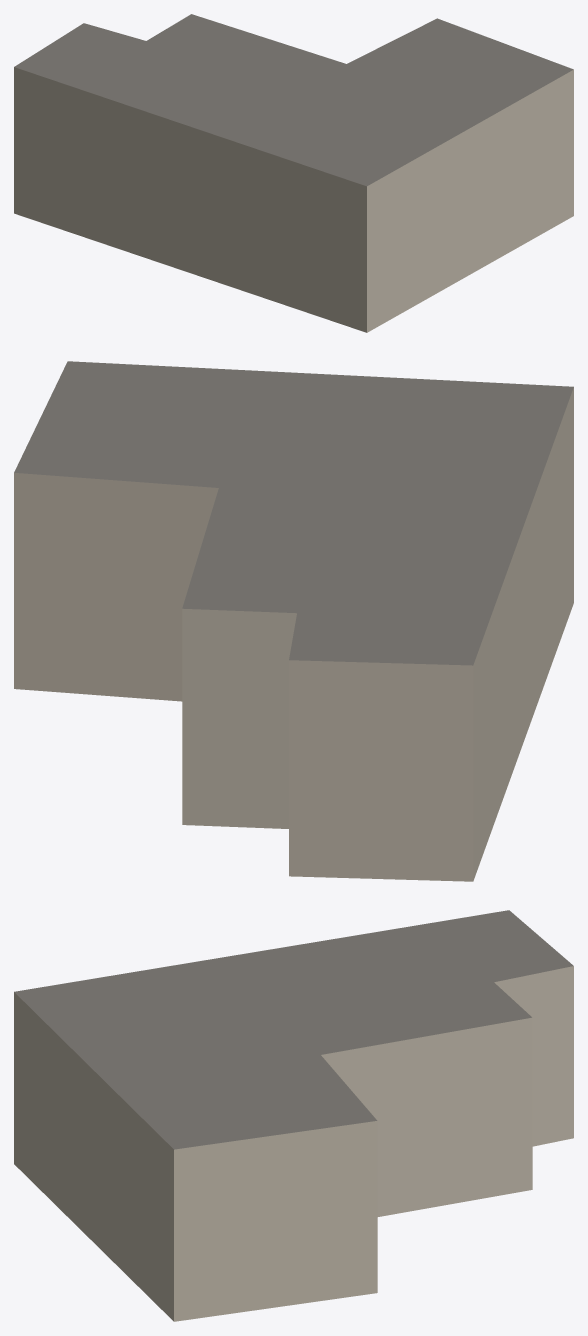
3 views of the same model, one above another, from view 1: azimuth 30°, elevation 25°; view 2: azimuth 150°, elevation 25°; view 3: azimuth 270°, elevation 25° (orthographic). The views are drawn at different scales.
Parts seen in each view (by area): view 1: HP-w1512800286; view 2: HP-w1512800286; view 3: HP-w1512800286.
Boxes of the visible parts, box(x1,y1,x2,y2) form: HP-w1512800286: box(14, 14, 573, 332); HP-w1512800286: box(14, 361, 573, 881); HP-w1512800286: box(14, 910, 573, 1321).
Bounding box in the file's own units: 53.66 × 18 × 53.03.
